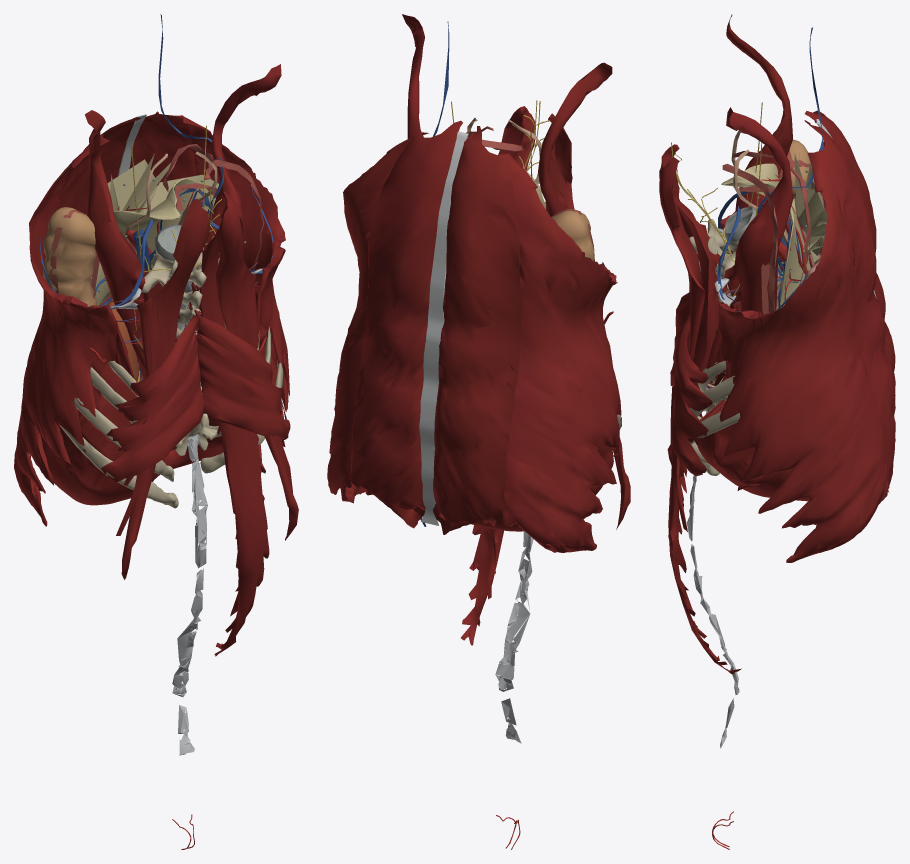
Rendered from abdomen.glb.
3 renders of one model, left to right at view 1: azimuth 30°, elevation 25°; view 2: azimuth 150°, elevation 25°; view 3: azimuth 270°, elevation 25°, orthographic. The views are drawn at different scales.
Visible parts, largest first — view 1: FJ1452, FJ1541, FJ1535M, FJ1541M, FJ3131, FJ1452M, FJ1527, FJ1431, FJ1527M, FJ2566, ZA_Ligamenta_flava, MOD_rectus_abdominis_l (+13 smaller); view 2: FJ1452, MOD_rectus_abdominis_r, MOD_rectus_abdominis_l, FJ1452M, MOD_linea_alba, ZA_Ligamenta_flava, FJ1431, FJ1535M, FJ1527, FJ1431M, FJ2566, FJ1527M; view 3: FJ1452M, MOD_rectus_abdominis_l, FJ1431M, FJ1527M, FJ1535M, FJ1541M, FJ3131, FJ1431, FJ3398, MOD_rectus_abdominis_r, FJ3396, ZA_Ligamenta_flava (+11 smaller).
Part boxes in pixels (x1,y1,x2,y2): FJ1452: (14,144,117,526); FJ1541: (101,309,203,482); FJ1535M: (197,227,269,656); FJ1541M: (196,310,290,439); FJ3131: (40,325,282,505); FJ1452M: (186,117,289,473); FJ1527: (116,199,209,579); FJ1431: (85,110,148,379); FJ1527M: (216,191,298,540); FJ2566: (42,207,96,306); ZA_Ligamenta_flava: (172,280,207,755); MOD_rectus_abdominis_l: (129,111,260,348); FJ1452: (502,160,621,552); MOD_rectus_abdominis_r: (433,126,520,534); MOD_rectus_abdominis_l: (350,120,462,528); FJ1452M: (327,136,414,503); MOD_linea_alba: (419,131,468,525); ZA_Ligamenta_flava: (495,531,533,743); FJ1431: (538,62,612,216); FJ1535M: (461,139,534,645); FJ1527: (545,113,630,529); FJ1431M: (402,14,424,138); FJ2566: (552,209,594,261); FJ1527M: (498,106,536,158); FJ1452M: (718,159,888,562); MOD_rectus_abdominis_l: (706,120,895,492); FJ1431M: (724,107,793,373); FJ1527M: (659,157,705,572); FJ1535M: (668,196,741,674); FJ1541M: (671,313,712,476); FJ3131: (697,301,811,501); FJ1431: (726,14,792,212); FJ3398: (721,163,810,308); MOD_rectus_abdominis_r: (805,110,895,416); FJ3396: (794,146,826,263); ZA_Ligamenta_flava: (687,246,739,748).
Bounding box in the file's own units: 282 × 882 × 228.
